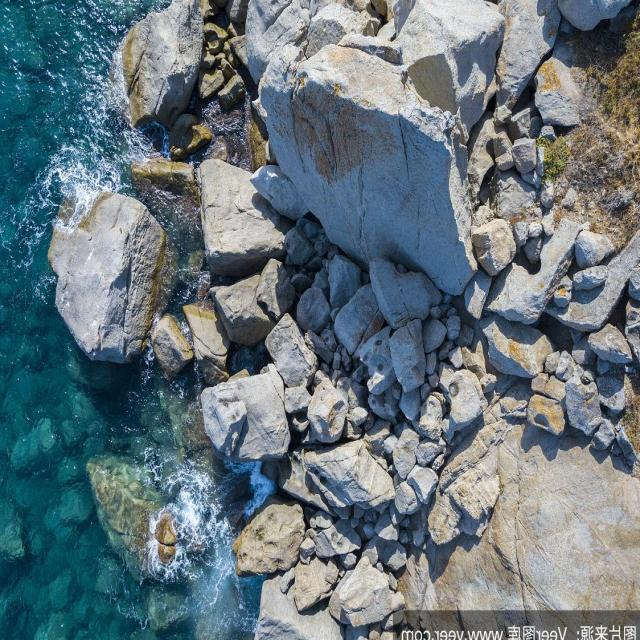reef: (65, 247, 342, 592)
